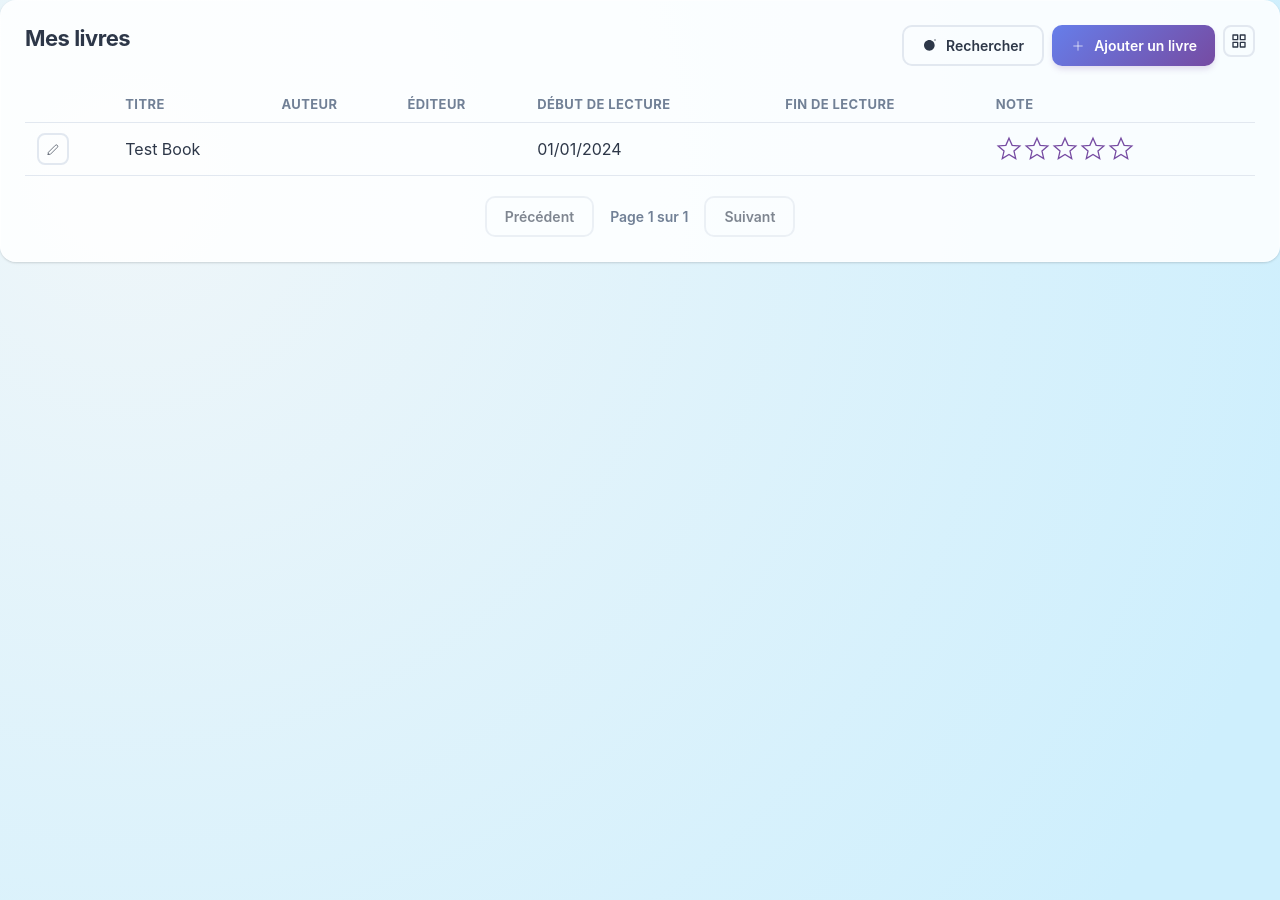
Test: LivresList › toggles between table and card view when clicking the view toggle button
Expected: the text "Test Book" is shown, [113,122,269,176]
Expected: the table is shown, [25,86,1255,176]
Click the button named "Afficher les cartes" at (1239, 41), box [1223,25,1255,57]
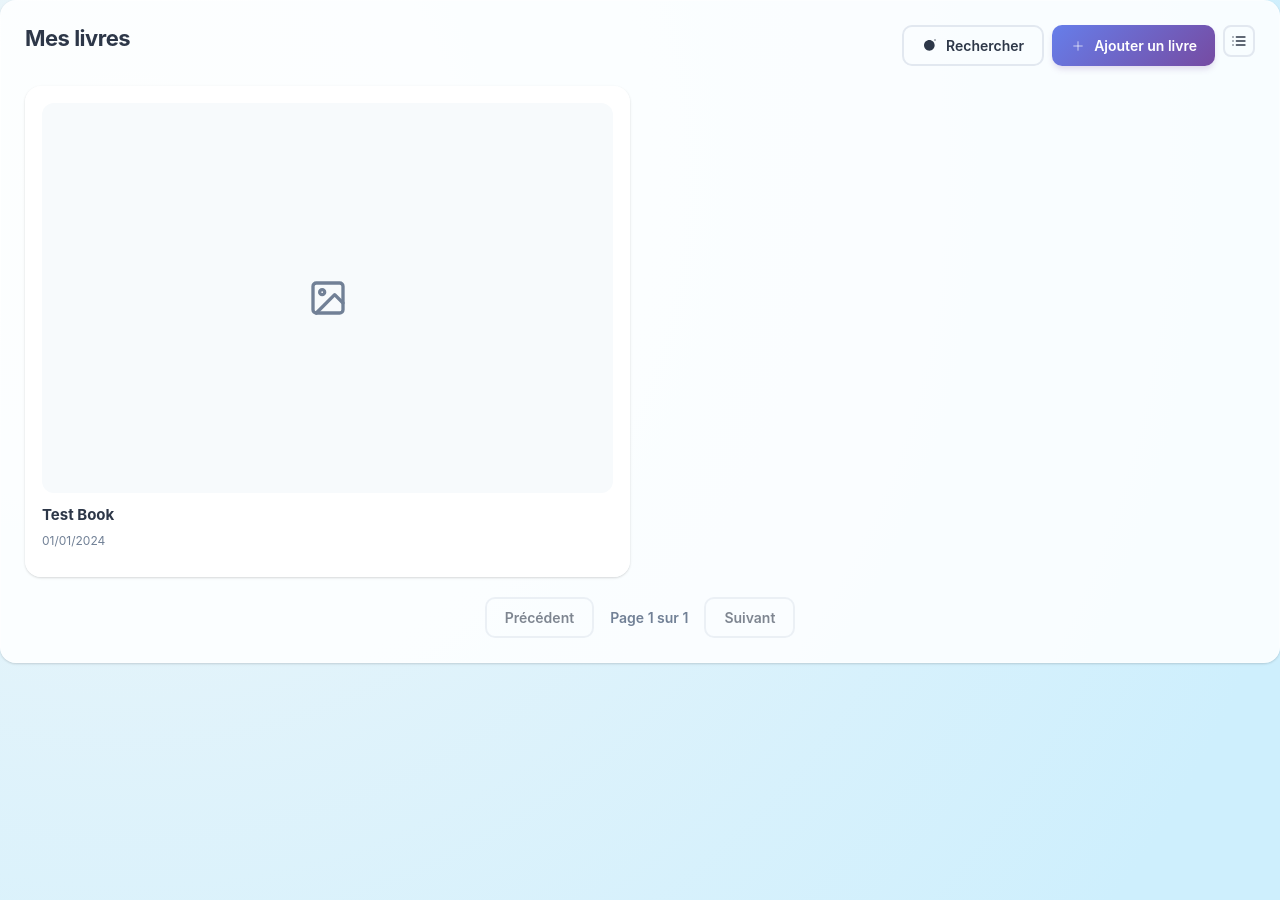
Expected: the element with class "books-grid" is shown, [25,86,630,576]
Expected: the table is gone
Click the button named "Afficher le tableau" at (1239, 41), box [1223,25,1255,57]
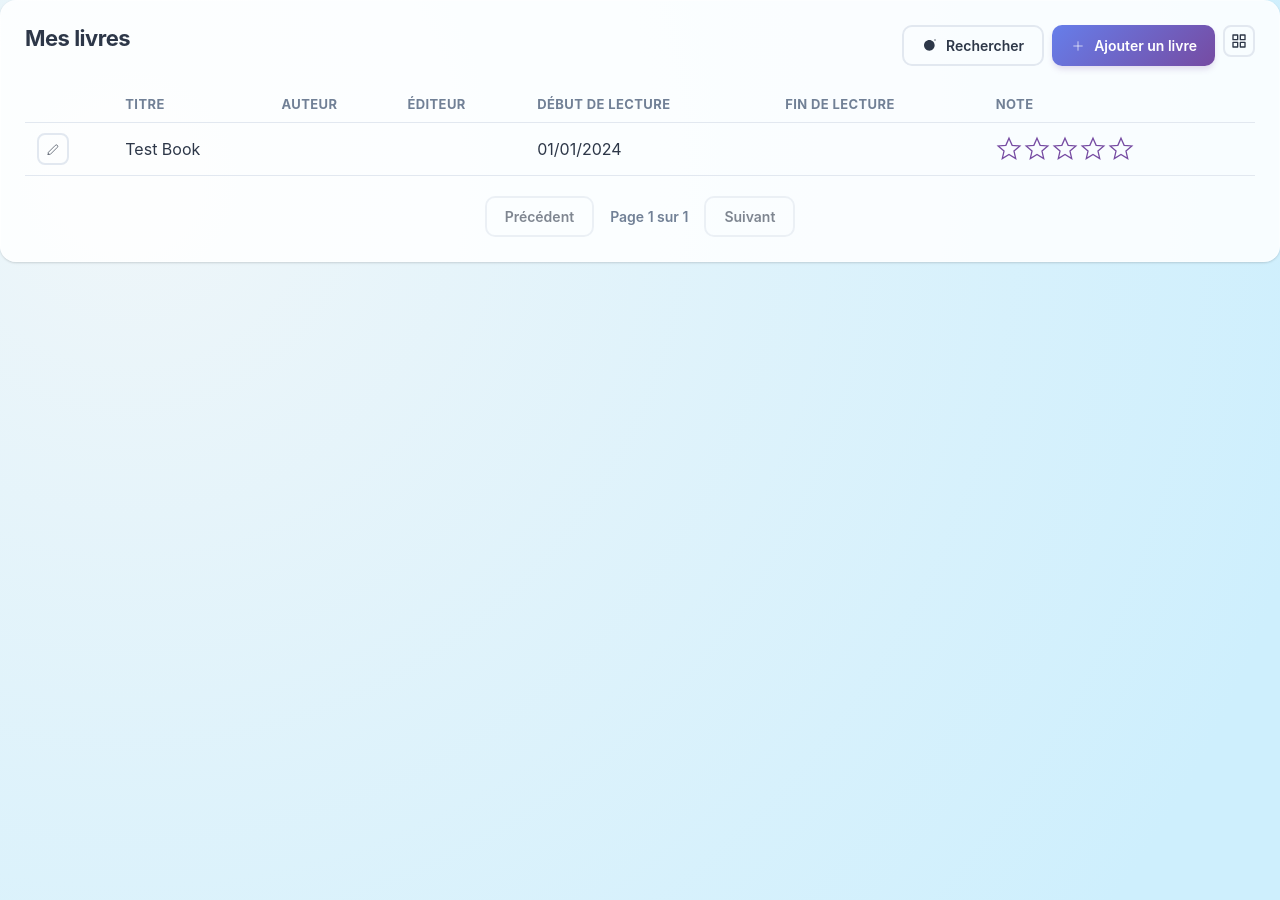
Expected: the table is shown, [25,86,1255,176]
Expected: the element with class "books-grid" is gone
